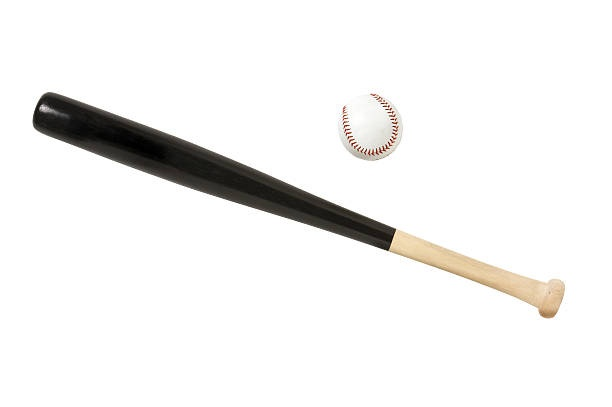bita: (30, 90, 554, 310)
